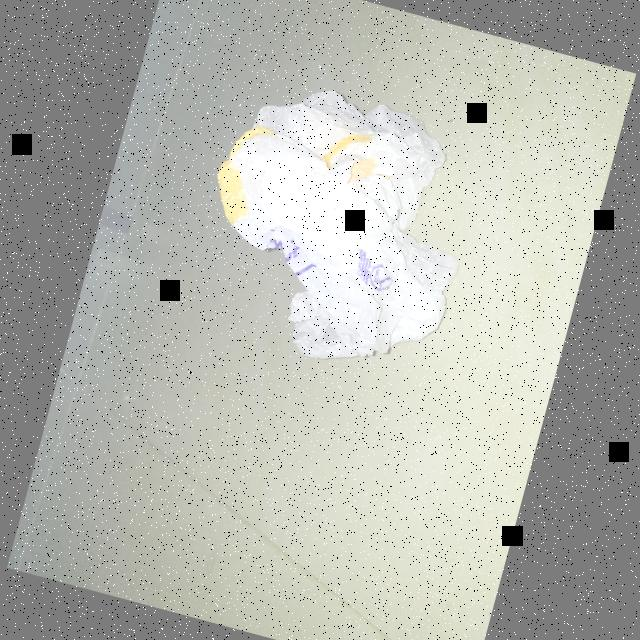plastic_bag: (168, 42, 510, 395)
